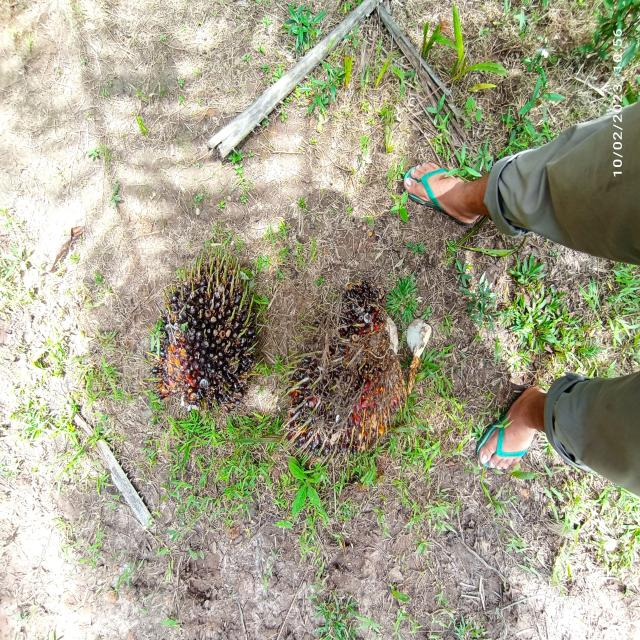fraksi 00: (283, 277, 421, 484), (139, 238, 273, 451)
